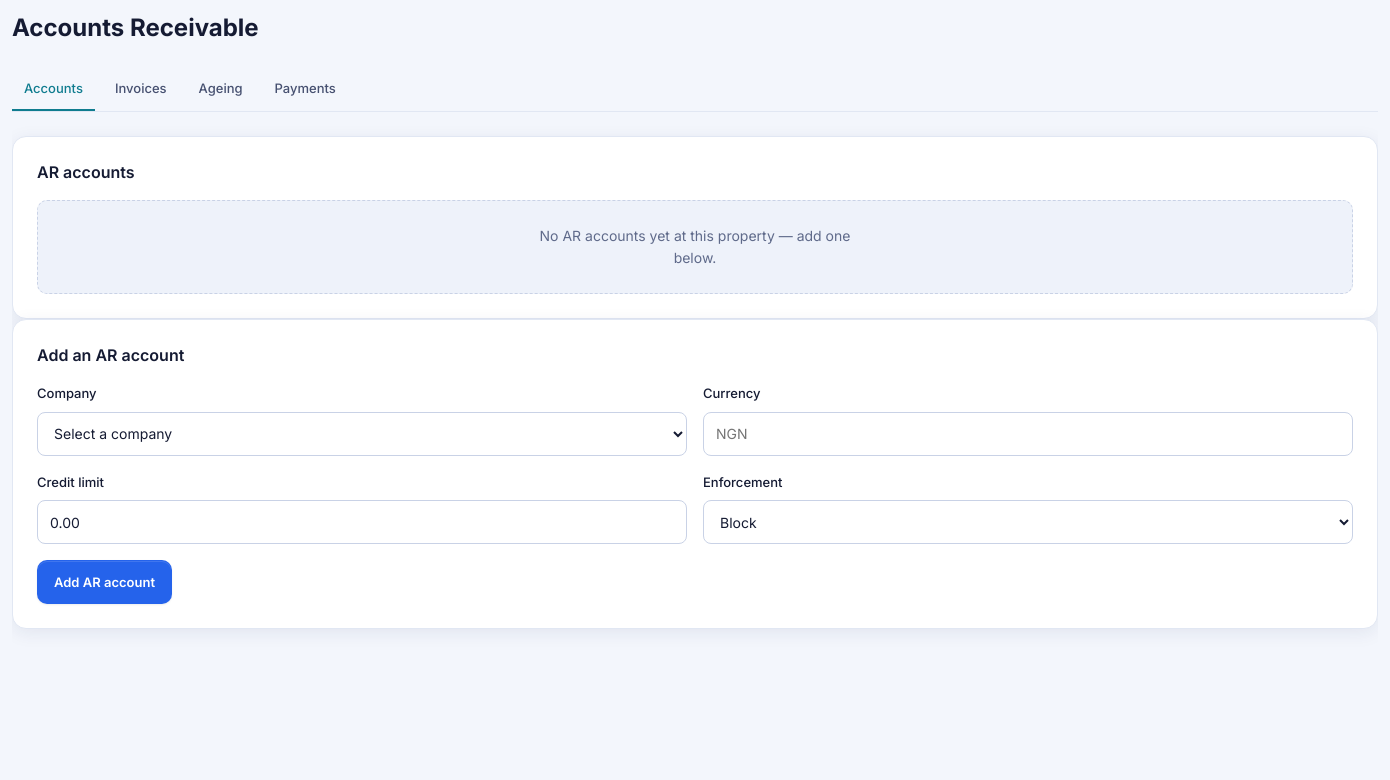
Test: <ARScreen> › switches to the Payments tab
The image size is (1390, 780).
Click the tab "Payments". click: {"x": 305, "y": 89}
box: [263,67,348,111]
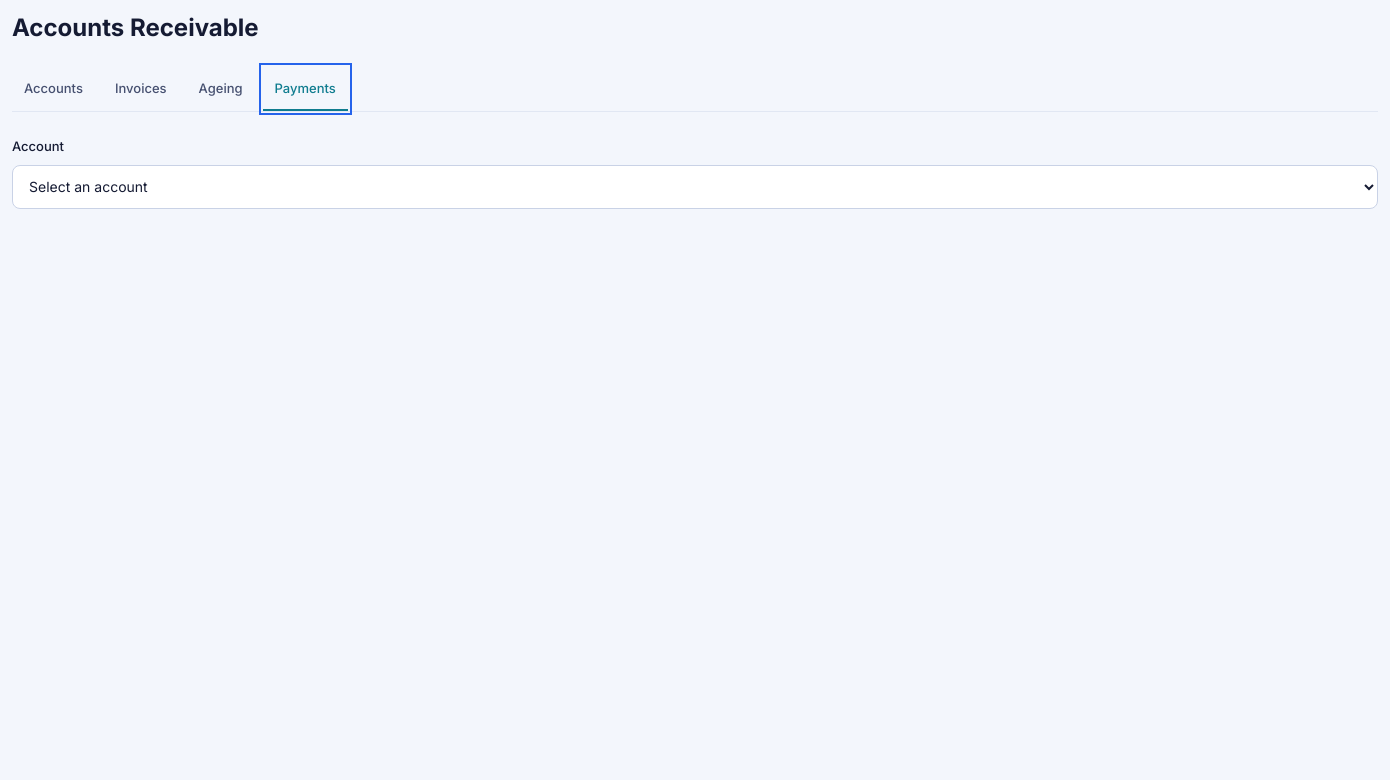
Check: the dropdown labelled "Account" is shown, box [12,165,1378,209]
